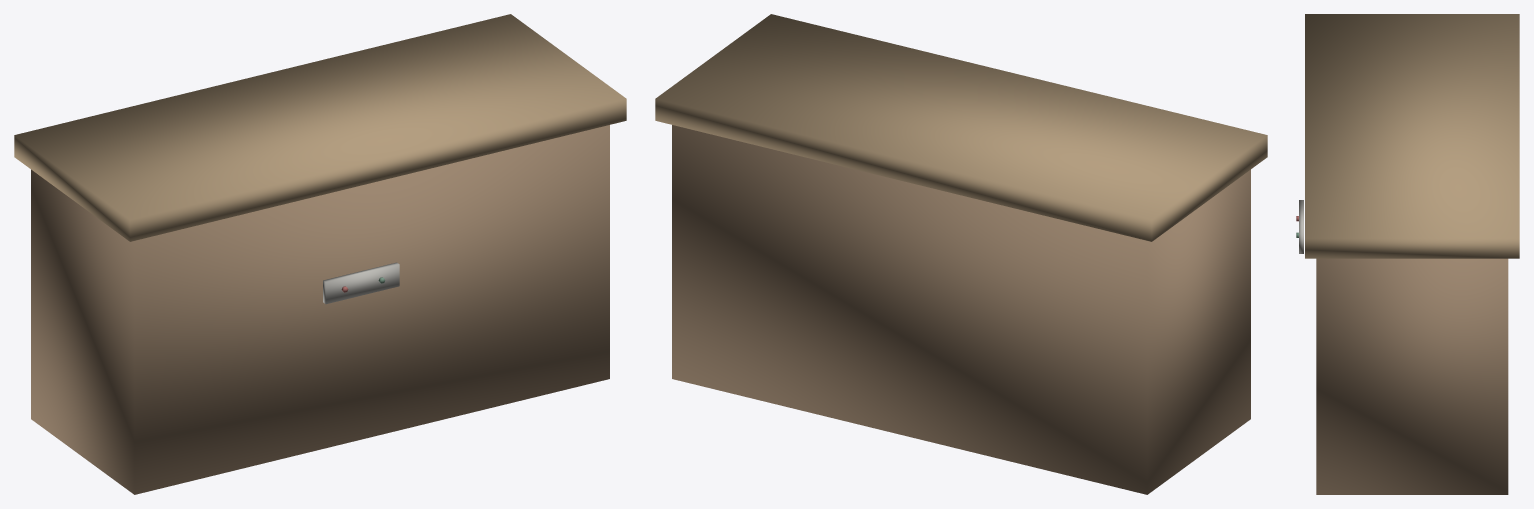
The model's file is funeral_reception_counter__reinforced.glb.
3 views of the same model, side by side, from view 1: azimuth 30°, elevation 25°; view 2: azimuth 150°, elevation 25°; view 3: azimuth 270°, elevation 25° (orthographic). The views are drawn at different scales.
Visible parts, largest first — view 1: world; view 2: world; view 3: world.
Part boxes in pixels (x1,y1,x2,y2): world: (14,14,626,494); world: (655,14,1267,494); world: (1296,14,1519,494).
Bounding box in the file's own units: 1.94 × 1.05 × 0.8147.
